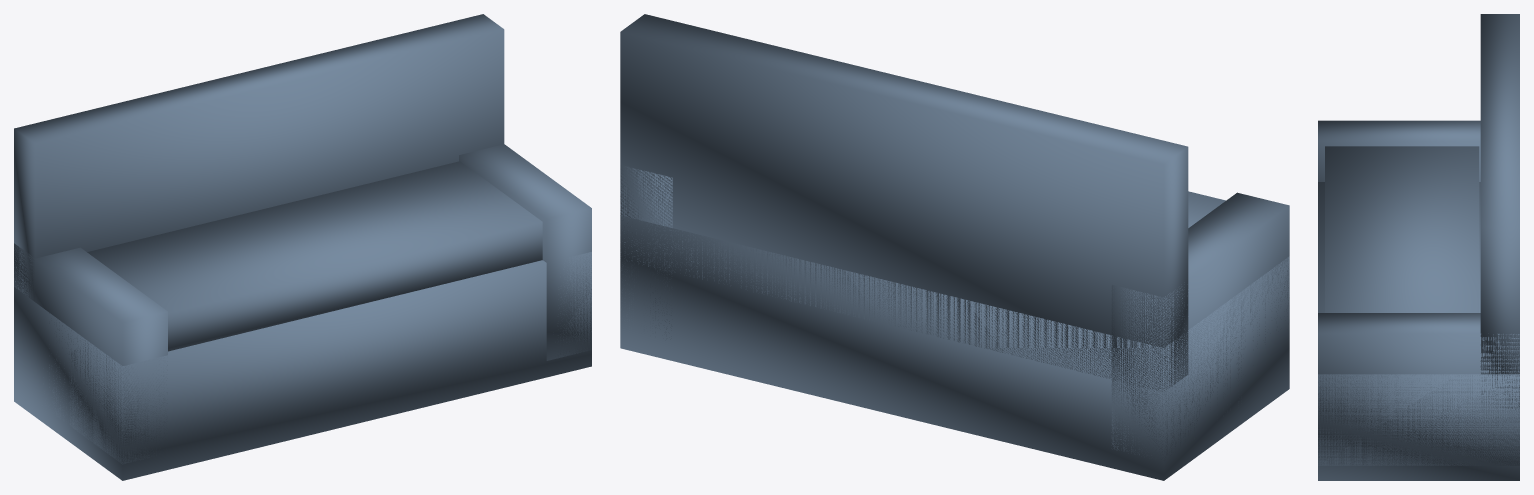
The model's file is loveseat__wide.glb.
The picture shows the model from 3 angles, left to right: view 1: azimuth 30°, elevation 25°; view 2: azimuth 150°, elevation 25°; view 3: azimuth 270°, elevation 25°; orthographic projection. The views are drawn at different scales.
Parts seen in each view (by area): view 1: world; view 2: world; view 3: world.
Boxes of the visible parts, x1,y1,x2,y2 form: world: [14, 14, 591, 480]; world: [620, 14, 1289, 480]; world: [1318, 14, 1519, 480].
Size of the model in its own units: 1.8 by 1.03 by 0.72.
